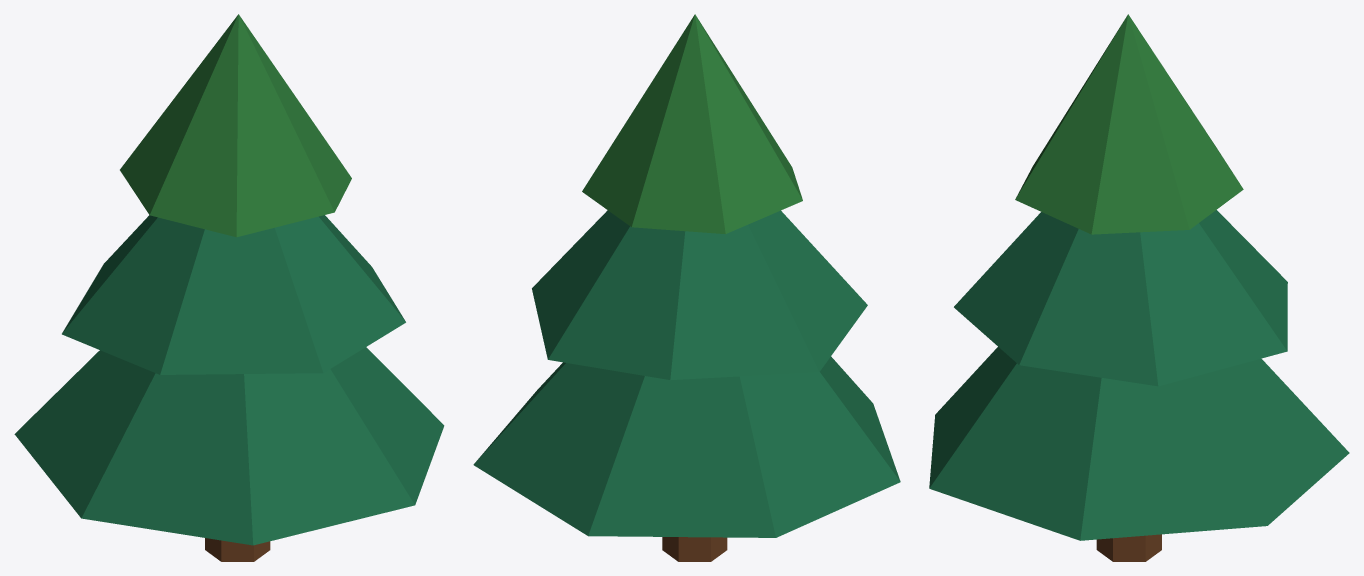
Rendered from PineTree.fbx.
3 views of the same model, side by side, from view 1: azimuth 30°, elevation 25°; view 2: azimuth 150°, elevation 25°; view 3: azimuth 270°, elevation 25° (orthographic).
Parts seen in each view (by area): view 1: Pine Tree; view 2: Pine Tree; view 3: Pine Tree.
Part boxes in pixels (x1,y1,x2,y2): Pine Tree: (14, 14, 444, 561); Pine Tree: (473, 14, 900, 561); Pine Tree: (929, 14, 1349, 561).
Size of the model in its own units: 5.79 by 8.16 by 5.8.
1 material, 1 textured.
